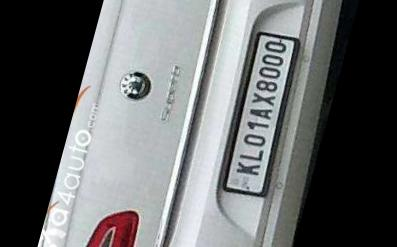plate: (213, 5, 317, 202)
